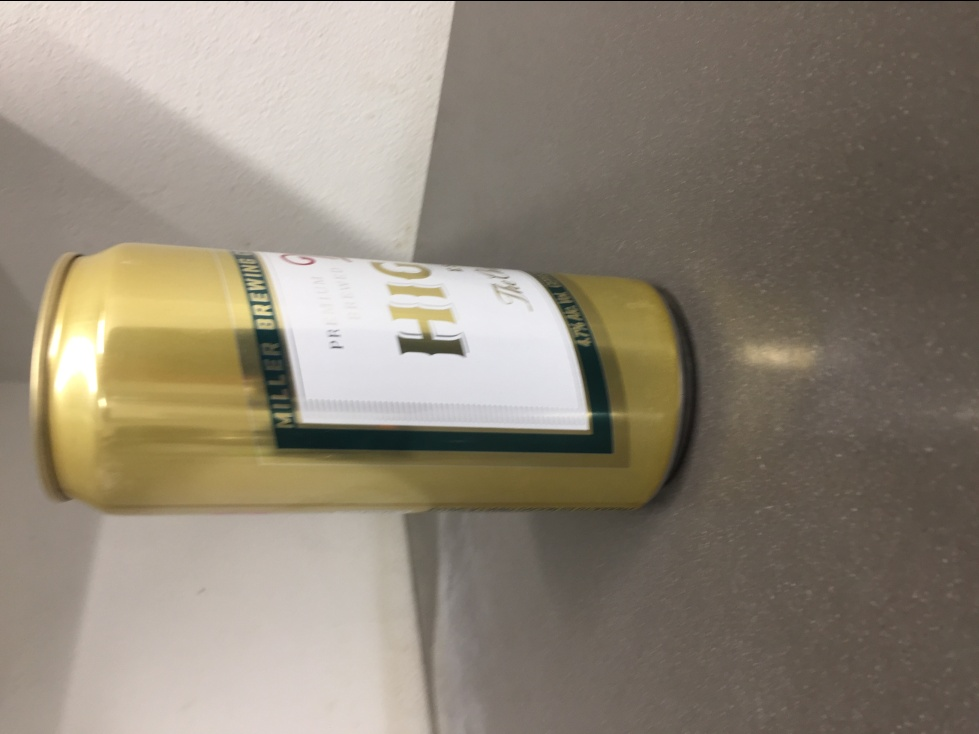miller: (26, 237, 699, 519)
